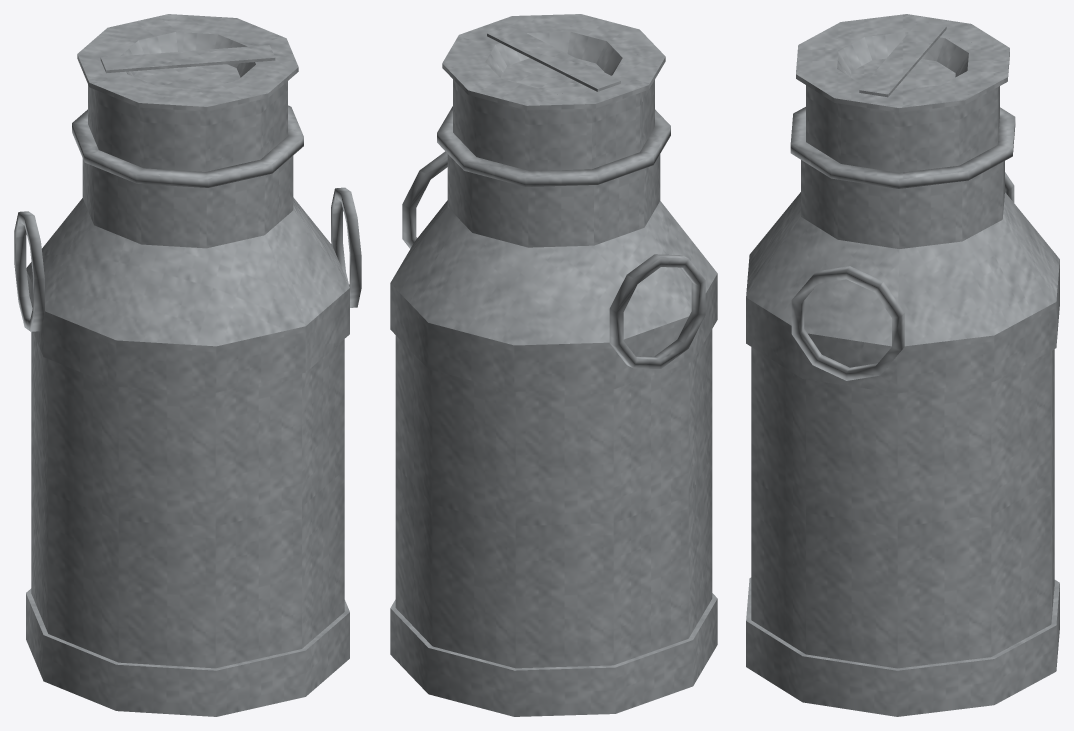
The model's file is Melkbus.dae.
The picture shows the model from 3 angles, left to right: view 1: azimuth 30°, elevation 25°; view 2: azimuth 150°, elevation 25°; view 3: azimuth 270°, elevation 25°; orthographic projection.
Parts seen in each view (by area): view 1: mesh0%root%0%, mesh3%Deksel%0%, mesh1%Handvat%0%, mesh2%Handvat%0%; view 2: mesh0%root%0%, mesh3%Deksel%0%, mesh1%Handvat%0%, mesh2%Handvat%0%; view 3: mesh0%root%0%, mesh3%Deksel%0%, mesh2%Handvat%0%.
Part boxes in pixels (left/top/right/bottom): mesh0%root%0%: left=26, top=105, right=349, bottom=716; mesh3%Deksel%0%: left=77, top=14, right=298, bottom=171; mesh1%Handvat%0%: left=14, top=211, right=44, bottom=331; mesh2%Handvat%0%: left=331, top=187, right=361, bottom=307; mesh0%root%0%: left=390, top=106, right=717, bottom=716; mesh3%Deksel%0%: left=442, top=14, right=665, bottom=170; mesh1%Handvat%0%: left=609, top=254, right=705, bottom=368; mesh2%Handvat%0%: left=402, top=151, right=447, bottom=248; mesh0%root%0%: left=746, top=107, right=1059, bottom=716; mesh3%Deksel%0%: left=796, top=14, right=1009, bottom=172; mesh2%Handvat%0%: left=791, top=266, right=904, bottom=380.
Bounding box in the file's own units: 0.344 × 0.638 × 0.3077.
